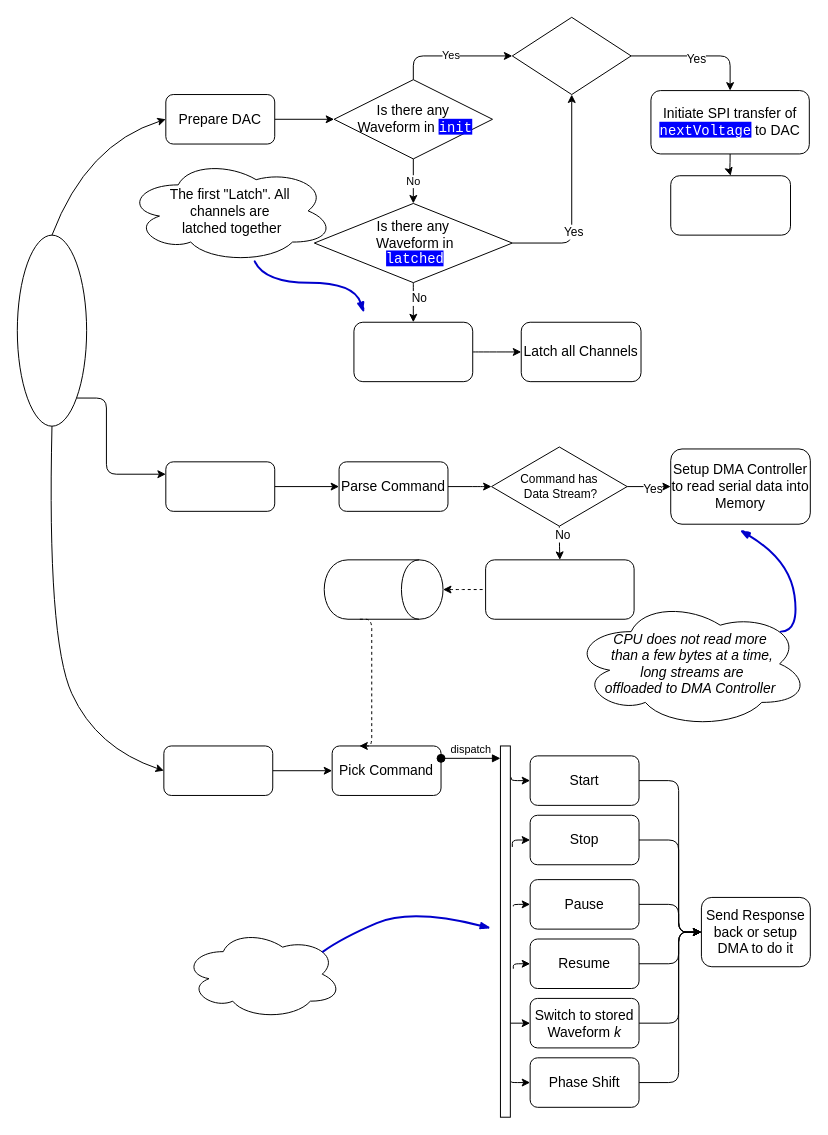
Image size: 828x1135. Some labels were removed from this diagram. Each missing label, with the box of its shape:
All these commands are short: (183, 928, 342, 1019)
Append command to Process Queue: (485, 559, 634, 619)
CPU: (16, 234, 87, 426)
Enable Timer Interrupts: (353, 321, 473, 382)
Mark Channel as prepared: (670, 175, 791, 235)
Process Commands in Queue: (163, 745, 273, 795)
Process Queue: (323, 559, 443, 619)
Read Serial Buffer: (165, 461, 275, 511)
SPI bus is free?: (511, 16, 631, 95)
